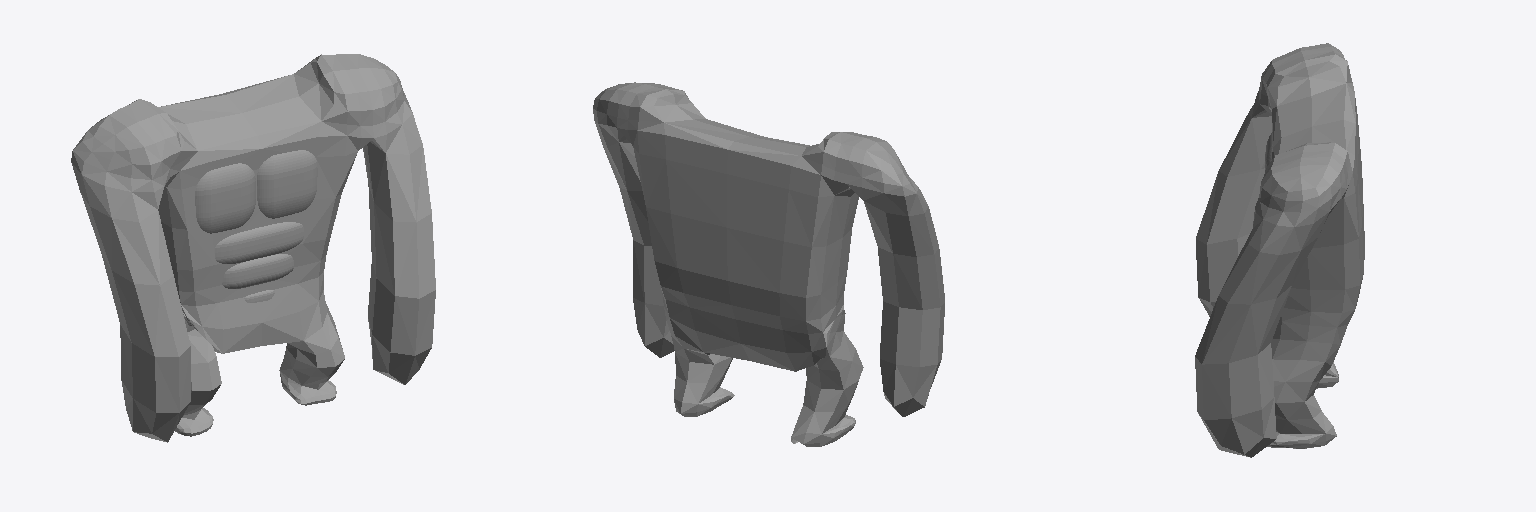
File: gorila.obj
The picture shows the model from 3 angles: view 1: azimuth 30°, elevation 25°; view 2: azimuth 150°, elevation 25°; view 3: azimuth 270°, elevation 25°; orthographic projection.
Visible parts, largest first — view 1: Cube_Cube.002; view 2: Cube_Cube.002; view 3: Cube_Cube.002.
Boxes of the visible parts, x1=… form: Cube_Cube.002: x1=71, y1=54, x2=435, y2=442; Cube_Cube.002: x1=593, y1=82, x2=944, y2=446; Cube_Cube.002: x1=1195, y1=43, x2=1364, y2=457.
Size of the model in its own units: 6.53 by 6.12 by 2.98.